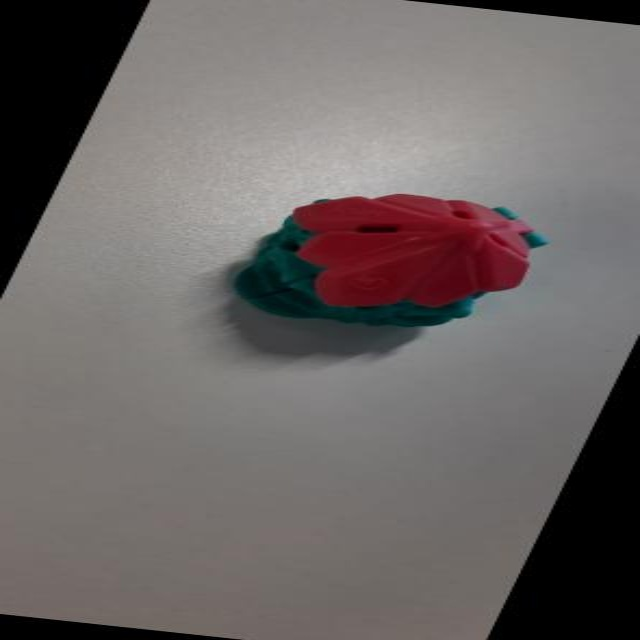House: (202, 171, 568, 348)
